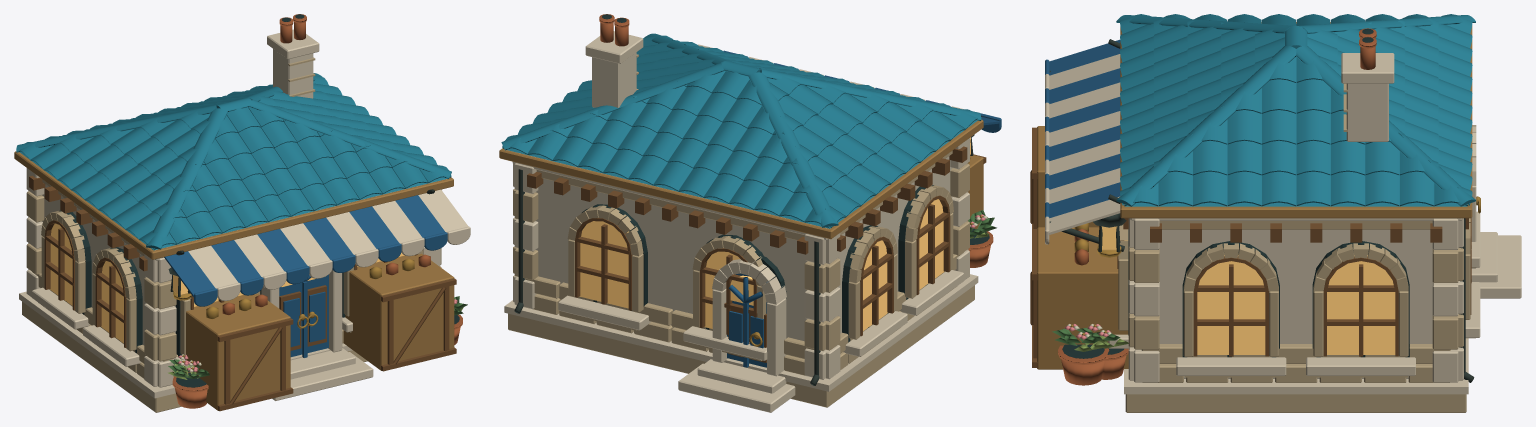
3 views of the same model, side by side, from view 1: azimuth 30°, elevation 25°; view 2: azimuth 150°, elevation 25°; view 3: azimuth 270°, elevation 25° (orthographic). The views are drawn at different scales.
Parts seen in each view (by area): view 1: harbor_shop_1_geometry, harbor_shop_1_geometry ceramic; view 2: harbor_shop_1_geometry, harbor_shop_1_geometry ceramic; view 3: harbor_shop_1_geometry, harbor_shop_1_geometry ceramic.
Boxes of the visible parts, x1,y1,x2,y2 form: harbor_shop_1_geometry: (14,14,470,412); harbor_shop_1_geometry ceramic: (16,73,451,250); harbor_shop_1_geometry: (499,14,1001,412); harbor_shop_1_geometry ceramic: (501,33,981,228); harbor_shop_1_geometry: (1030,22,1521,412); harbor_shop_1_geometry ceramic: (1116,14,1475,206).
Bounding box in the file's own units: 0.9195 × 0.7604 × 0.99.
